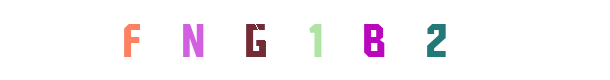1: (266, 0, 346, 80)
2: (396, 0, 476, 80)
B: (333, 0, 413, 80)
F: (90, 0, 170, 80)
G: (214, 0, 294, 80)
N: (163, 0, 243, 80)
